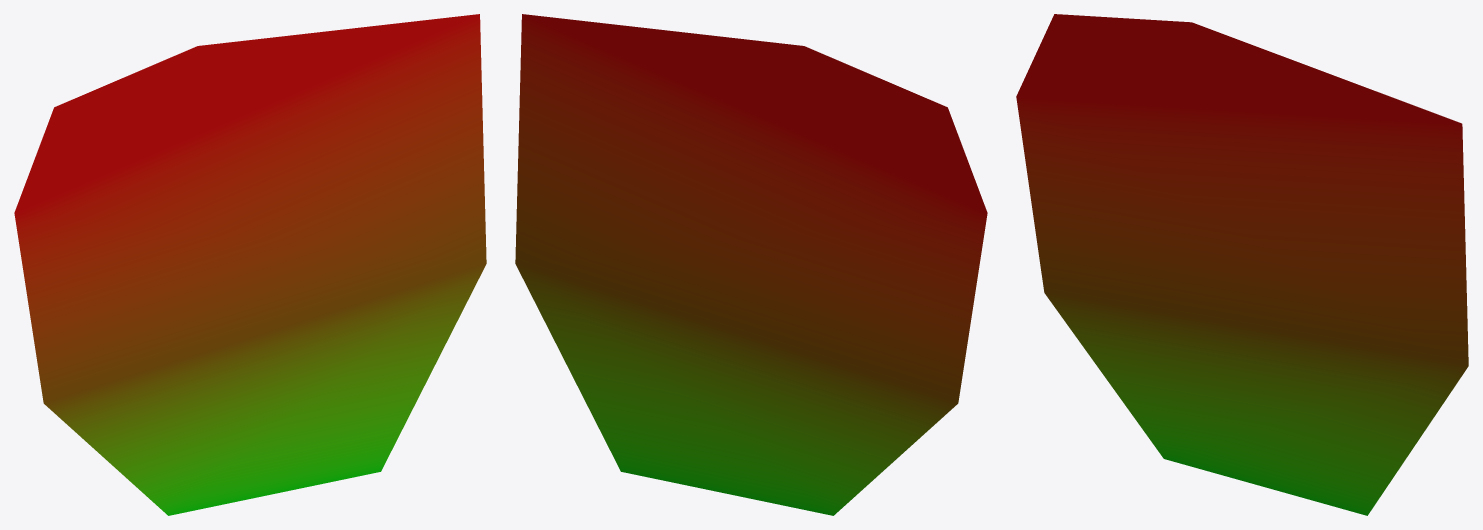
Rendered from Var10_LOD4.fbx.
3 views of the same model, side by side, from view 1: azimuth 30°, elevation 25°; view 2: azimuth 150°, elevation 25°; view 3: azimuth 330°, elevation 25° (orthographic). The views are drawn at different scales.
Visible parts, largest first — view 1: _2ybp_Var10_LOD4; view 2: _2ybp_Var10_LOD4; view 3: _2ybp_Var10_LOD4.
Boxes of the visible parts, box(x1,y1,x2,y2) form: _2ybp_Var10_LOD4: box(14, 14, 486, 515); _2ybp_Var10_LOD4: box(515, 14, 987, 515); _2ybp_Var10_LOD4: box(1016, 14, 1468, 515).
Size of the model in its own units: 27.43 by 26.11 by 1.37e-06.
